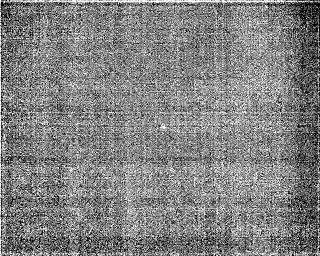AIRPLANE: (158, 123, 168, 134)
